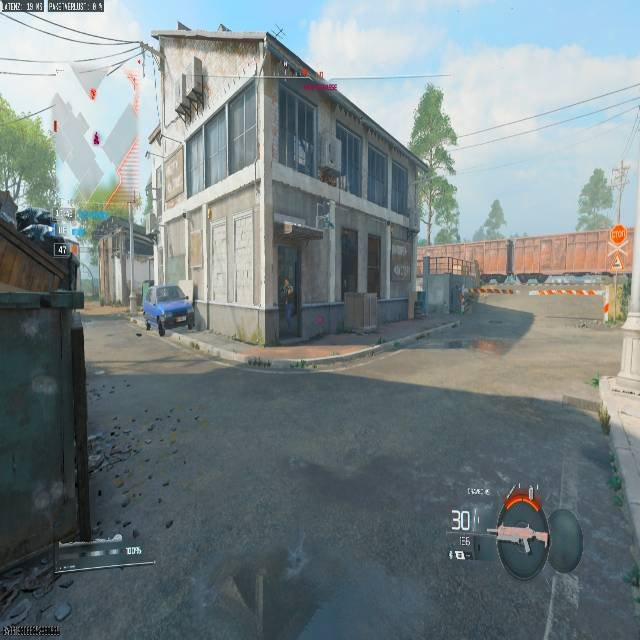player: (14, 204, 63, 249), (459, 288, 472, 314)
